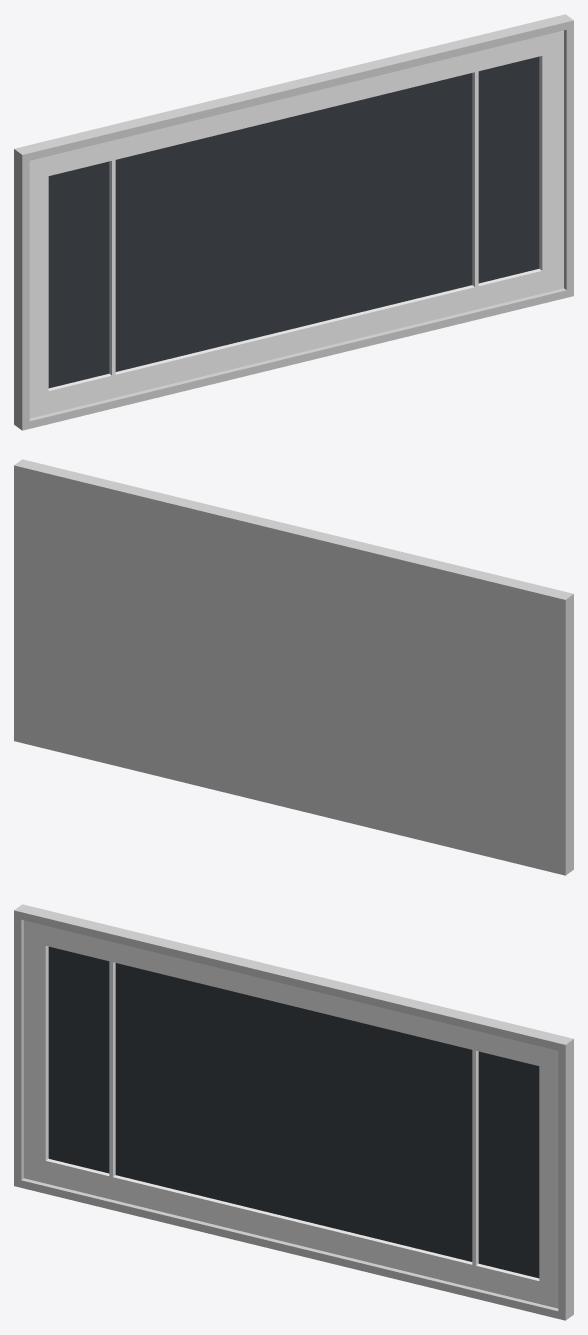
The model's file is s_chalkboard.fbx.
3 views of the same model, one above another, from view 1: azimuth 30°, elevation 25°; view 2: azimuth 150°, elevation 25°; view 3: azimuth 330°, elevation 25° (orthographic).
Visible parts, largest first — view 1: S Chalkboard; view 2: S Chalkboard; view 3: S Chalkboard.
Part boxes in pixels (box(x1,y1,x2,y2)): S Chalkboard: box(14, 14, 573, 430); S Chalkboard: box(14, 459, 573, 875); S Chalkboard: box(14, 904, 573, 1320).
Bounding box in the file's own units: 380 × 181 × 10.
